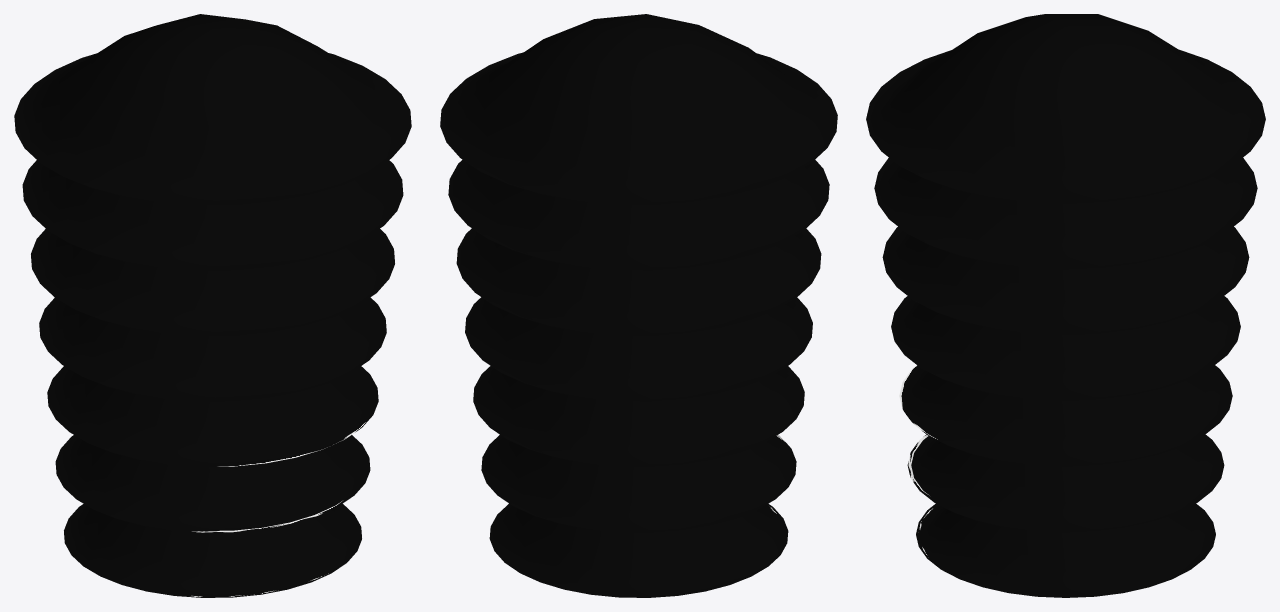
Rendered from SandFill_BlendShapes.fbx.
3 renders of one model, left to right at view 1: azimuth 30°, elevation 25°; view 2: azimuth 150°, elevation 25°; view 3: azimuth 270°, elevation 25°, orthographic.
Parts seen in each view (by area): view 1: Fill07_BS, Fill06_BS, Fill05_BS, Fill04_BS, Fill03_BS, Fill02_BS, Fill01_BS; view 2: Fill07_BS, Fill06_BS, Fill05_BS, Fill04_BS, Fill03_BS, Fill02_BS, Fill01_BS; view 3: Fill07_BS, Fill06_BS, Fill05_BS, Fill04_BS, Fill03_BS, Fill02_BS, Fill01_BS.
Part boxes in pixels (left/top/right/bottom): Fill07_BS: left=14, top=14, right=411, bottom=204; Fill06_BS: left=22, top=160, right=403, bottom=270; Fill05_BS: left=31, top=229, right=394, bottom=335; Fill04_BS: left=39, top=297, right=386, bottom=401; Fill03_BS: left=47, top=366, right=378, bottom=466; Fill02_BS: left=55, top=435, right=370, bottom=532; Fill01_BS: left=64, top=503, right=361, bottom=597; Fill07_BS: left=440, top=14, right=837, bottom=204; Fill06_BS: left=448, top=159, right=829, bottom=270; Fill05_BS: left=456, top=228, right=821, bottom=335; Fill04_BS: left=465, top=297, right=812, bottom=401; Fill03_BS: left=473, top=366, right=804, bottom=466; Fill02_BS: left=481, top=435, right=796, bottom=532; Fill01_BS: left=489, top=503, right=788, bottom=597; Fill07_BS: left=866, top=14, right=1265, bottom=203; Fill06_BS: left=874, top=158, right=1257, bottom=269; Fill05_BS: left=882, top=227, right=1249, bottom=334; Fill04_BS: left=891, top=296, right=1240, bottom=400; Fill03_BS: left=899, top=365, right=1232, bottom=466; Fill02_BS: left=907, top=434, right=1224, bottom=532; Fill01_BS: left=916, top=503, right=1215, bottom=597.
Size of the model in its own units: 324 by 454 by 324.
